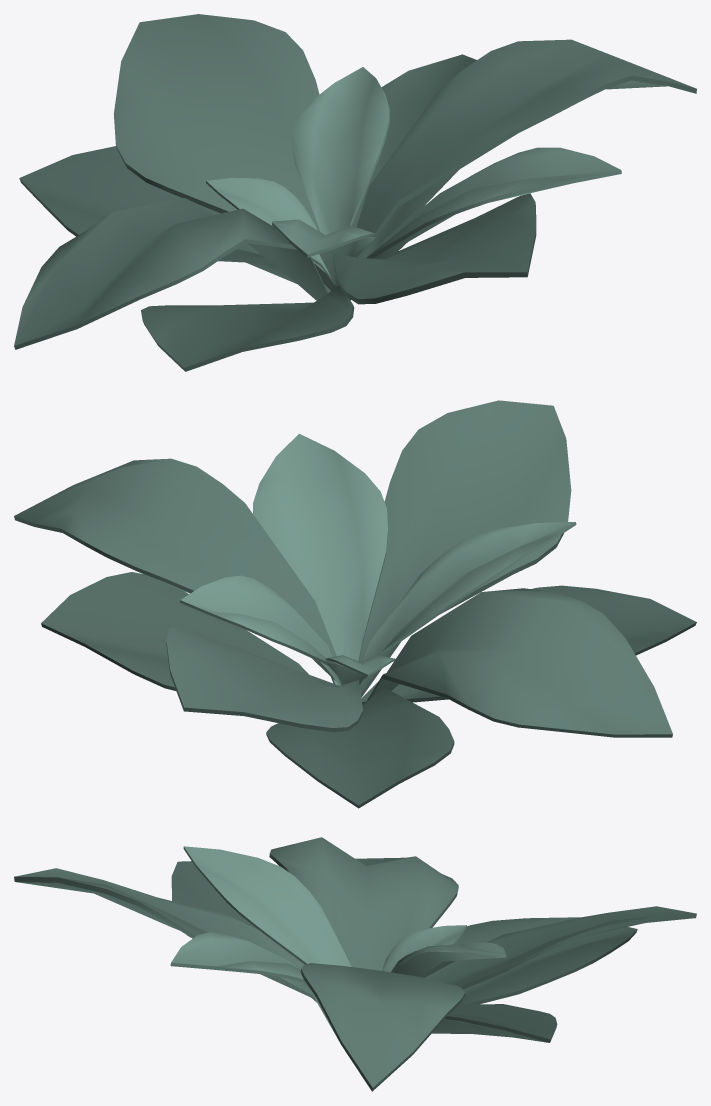
The model's file is PulaPulaB.fbx.
The picture shows the model from 3 angles, top to bottom: view 1: azimuth 30°, elevation 25°; view 2: azimuth 150°, elevation 25°; view 3: azimuth 270°, elevation 25°; orthographic projection. The views are drawn at different scales.
Visible parts, largest first — view 1: PulaPulaB; view 2: PulaPulaB; view 3: PulaPulaB.
Boxes of the visible parts, x1,y1,x2,y2 form: PulaPulaB: (14,14,696,371); PulaPulaB: (14,400,696,808); PulaPulaB: (14,837,696,1091).
Bounding box in the file's own units: 4.82 × 1.44 × 4.71.
